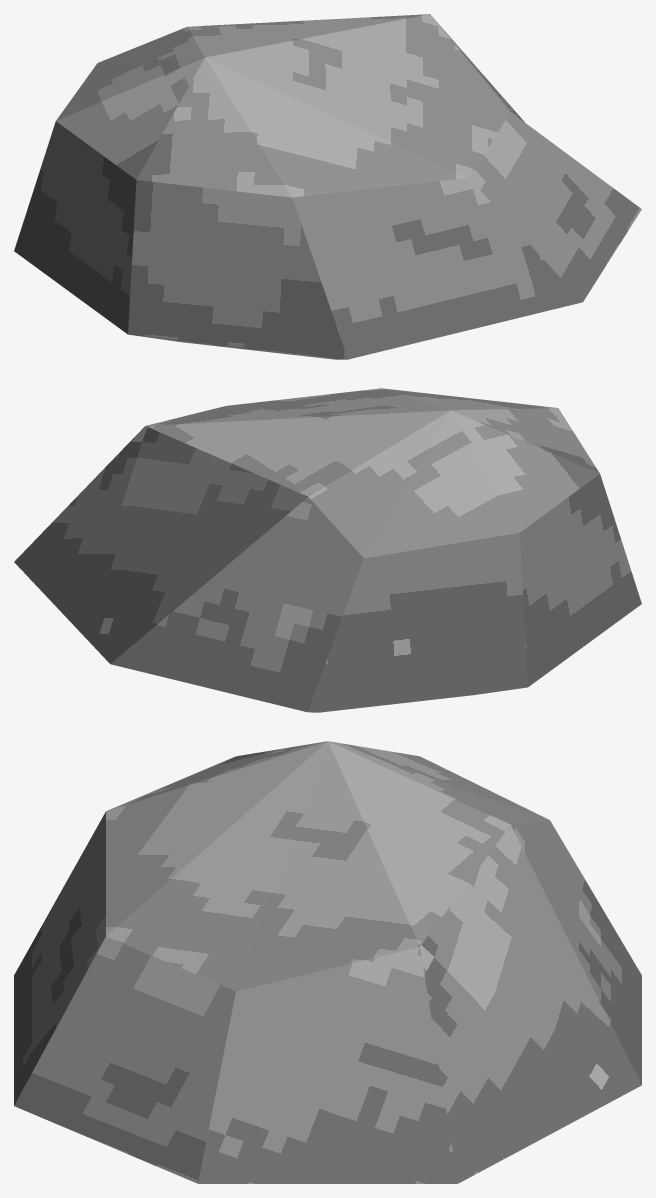
File: stone1.gltf
The picture shows the model from 3 angles, top to bottom: view 1: azimuth 30°, elevation 25°; view 2: azimuth 150°, elevation 25°; view 3: azimuth 270°, elevation 25°; orthographic projection. The views are drawn at different scales.
Visible parts, largest first — view 1: sphere; view 2: sphere; view 3: sphere.
Part boxes in pixels (x1=…): sphere: x1=14, y1=14, x2=641, y2=359; sphere: x1=14, y1=388, x2=641, y2=712; sphere: x1=14, y1=741, x2=641, y2=1183.
Size of the model in its own units: 1.08 by 0.5625 by 1.
Materials: 1 (1 with a texture image).
